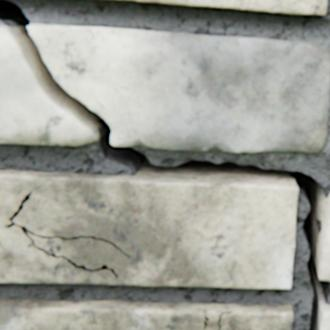brick: (0, 170, 298, 288), (0, 298, 293, 329), (101, 0, 327, 15), (317, 195, 329, 280), (318, 303, 329, 329)
broken_brick: (28, 24, 329, 152), (0, 25, 99, 146)
crack: (0, 0, 329, 329), (8, 190, 131, 277), (217, 310, 231, 329), (203, 310, 209, 329)
